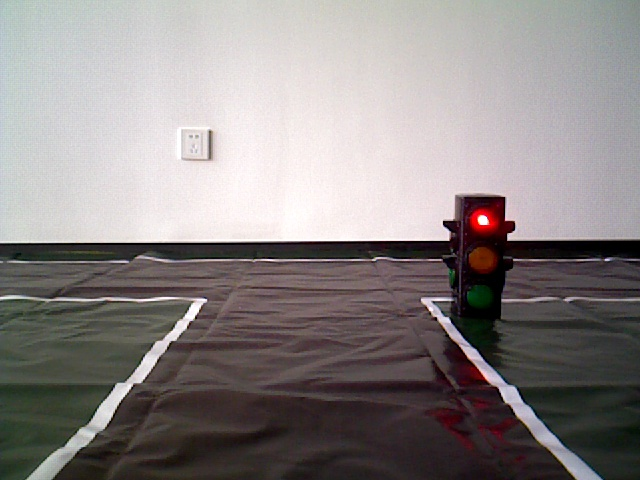red: (457, 200, 503, 316)
